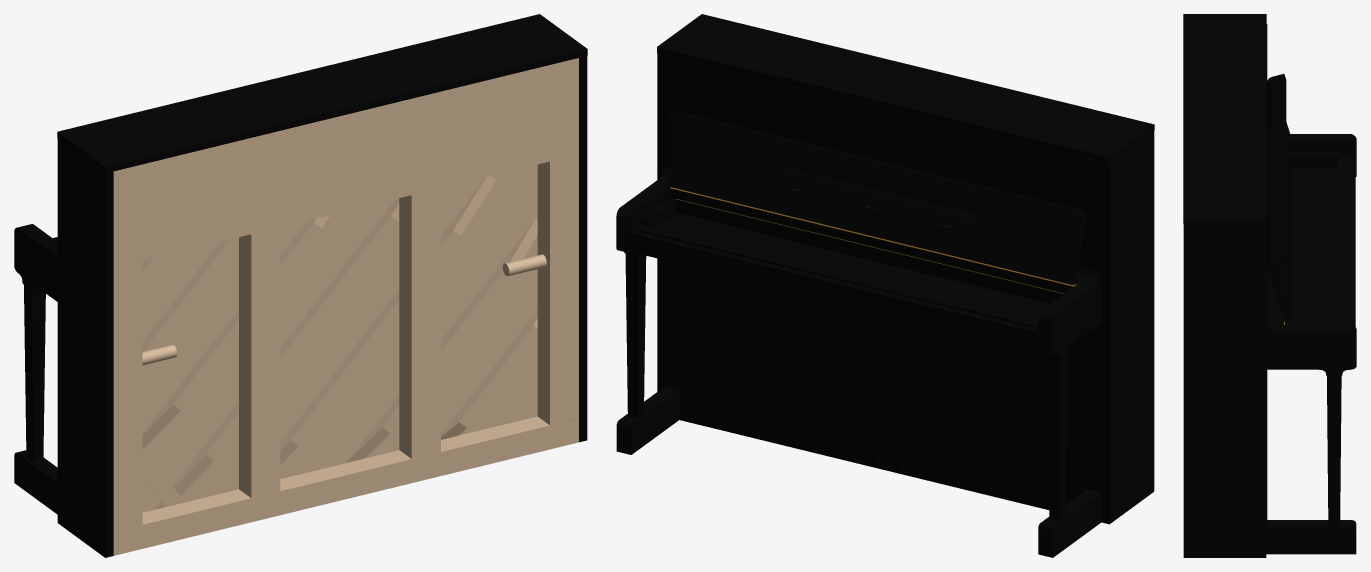
Rendered from PianoWithoutKeys.fbx.
The picture shows the model from 3 angles, left to right: view 1: azimuth 30°, elevation 25°; view 2: azimuth 150°, elevation 25°; view 3: azimuth 270°, elevation 25°; orthographic projection. The views are drawn at different scales.
Parts seen in each view (by area): view 1: Soundboard, Panel_Back_Top, Top, R_Side.001, Panel_Back_Bottom, Panel_Back_Column.003, Panel_Back_Column.002, Panel_Back_Column.001, Panel_Back_Column.004, Rib.004, Rib.003, Rib.005 (+9 smaller); view 2: Front_Bottom_Panel, Flatboard, Top, Front_Upper_Panel, R_Side.001, Flatboard.002, L_Side.003, L_Side.010, Flatboard.001, Score_Holder, L_Side.014, L_Side.016 (+10 smaller); view 3: L_Side, Top, Flatboard.002, Flatboard, L_Side.006, L_Side.002, L_Side.008, L_Side.014, L_Side.010, L_Side.004, Flatboard.004, Left_Top_Panel (+1 smaller).
Part boxes in pixels (x1,y1,x2,y2): Soundboard: (142,164,537,512); Panel_Back_Top: (113,58,578,267); Top: (57,14,587,173); R_Side.001: (57,139,113,557); Panel_Back_Bottom: (113,416,578,555); Panel_Back_Column.003: (239,227,280,497); Panel_Back_Column.002: (399,188,440,458); Panel_Back_Column.001: (537,154,578,425); Panel_Back_Column.004: (113,261,142,531); Rib.004: (155,198,399,509); Rib.003: (280,176,495,465); Rib.005: (142,215,329,449); Front_Bottom_Panel: (679,264,1086,489); Flatboard: (666,111,1086,284); Top: (657,14,1154,163); Front_Upper_Panel: (680,59,1086,268); R_Side.001: (1101,131,1154,524); Flatboard.002: (631,205,1049,339); L_Side.003: (679,390,1085,509); L_Side.010: (670,188,1085,303); Flatboard.001: (631,241,1037,350); Score_Holder: (770,165,977,232); L_Side.014: (1038,268,1100,354); L_Side.016: (1047,354,1067,520); L_Side: (1183,224,1266,557); Top: (1183,14,1266,224); Flatboard.002: (1285,157,1355,326); Flatboard: (1267,74,1291,323); L_Side.006: (1267,316,1356,365); L_Side.002: (1266,520,1356,554); L_Side.008: (1327,376,1341,525); L_Side.014: (1290,134,1356,175); L_Side.010: (1266,134,1283,324); L_Side.004: (1267,366,1356,375); Flatboard.004: (1291,152,1337,160); Left_Top_Panel: (1266,214,1267,369).
Bounding box in the file's own units: 1168 × 905 × 419.
